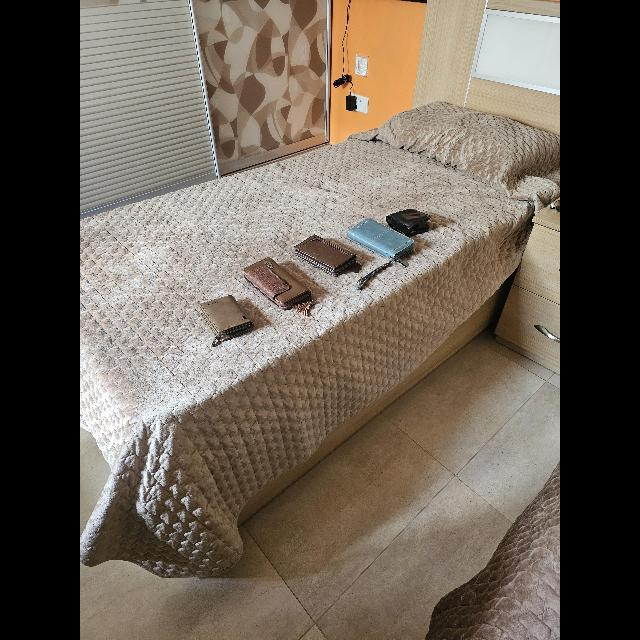Wallet: (244, 257, 314, 315), (348, 218, 414, 262), (200, 295, 254, 347), (294, 234, 360, 276), (386, 208, 430, 236)
